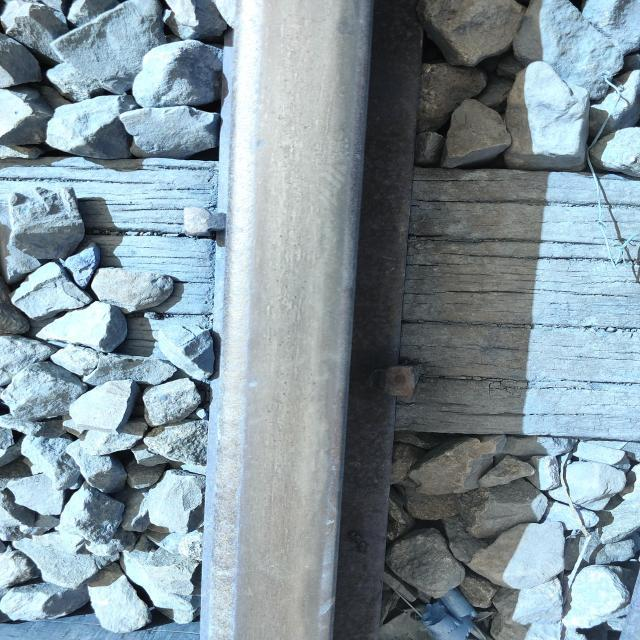Good Fasteners: (371, 365, 421, 396), (183, 207, 226, 236)
